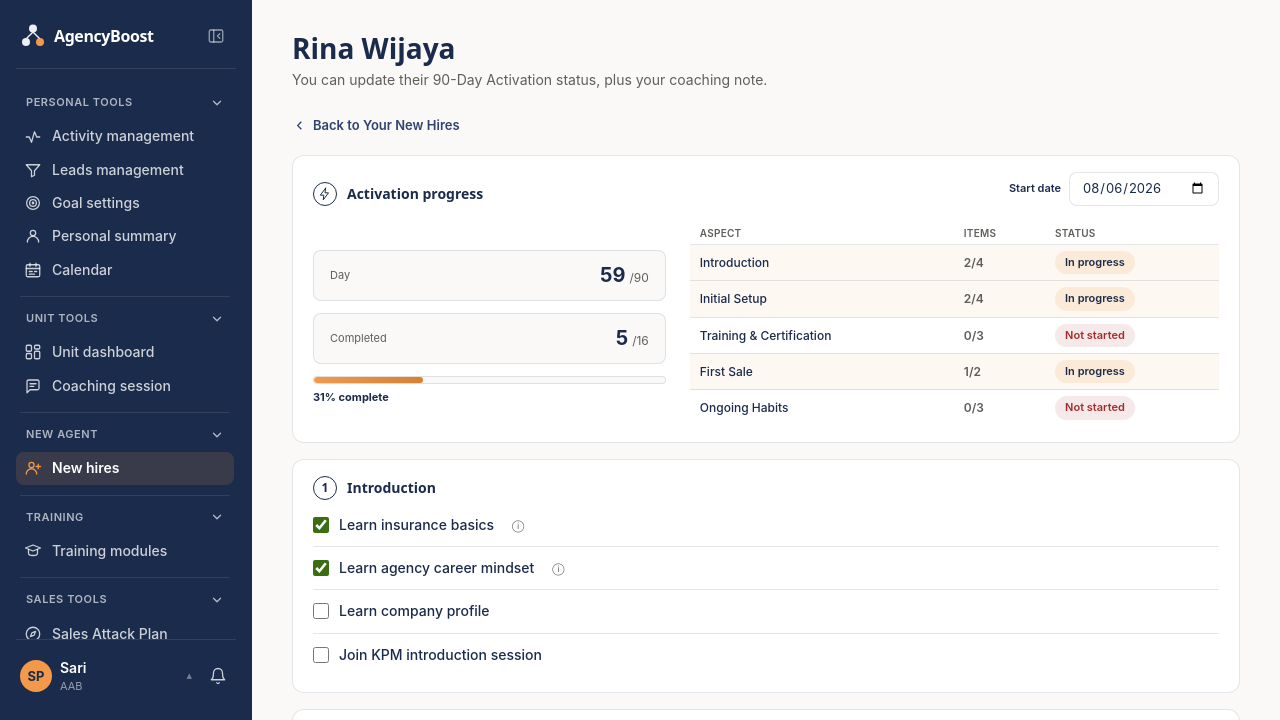
Test case: /new-hires/[membershipId], one hire as a leader reads it (P13-T5, P13-T6) › P13-T5 AC-5 a date after today, or more than a year back, is refused before it is sent
Type "2026-10-04" into the date field labelled "Start date".
click(1144, 189); type("2026-10-04")  # box x1=1069 y1=172 x2=1219 y2=206
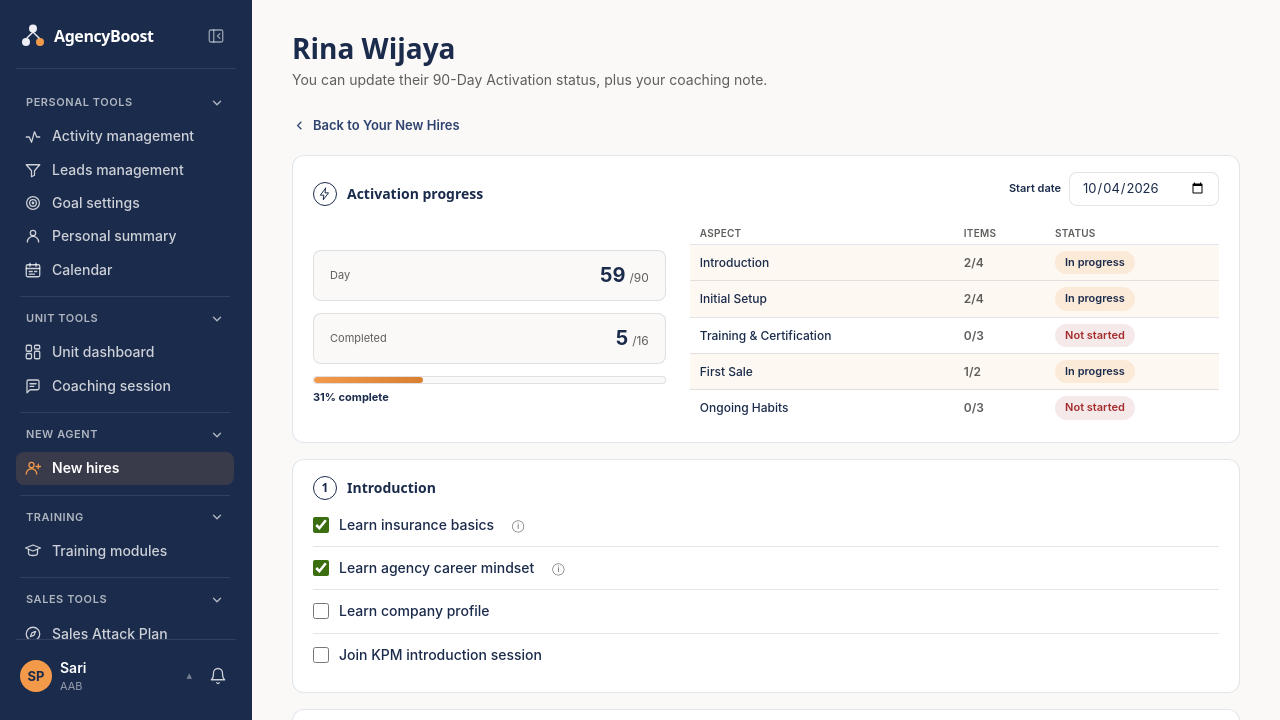
Leave the date field labelled "Start date", box x1=1069 y1=172 x2=1219 y2=206
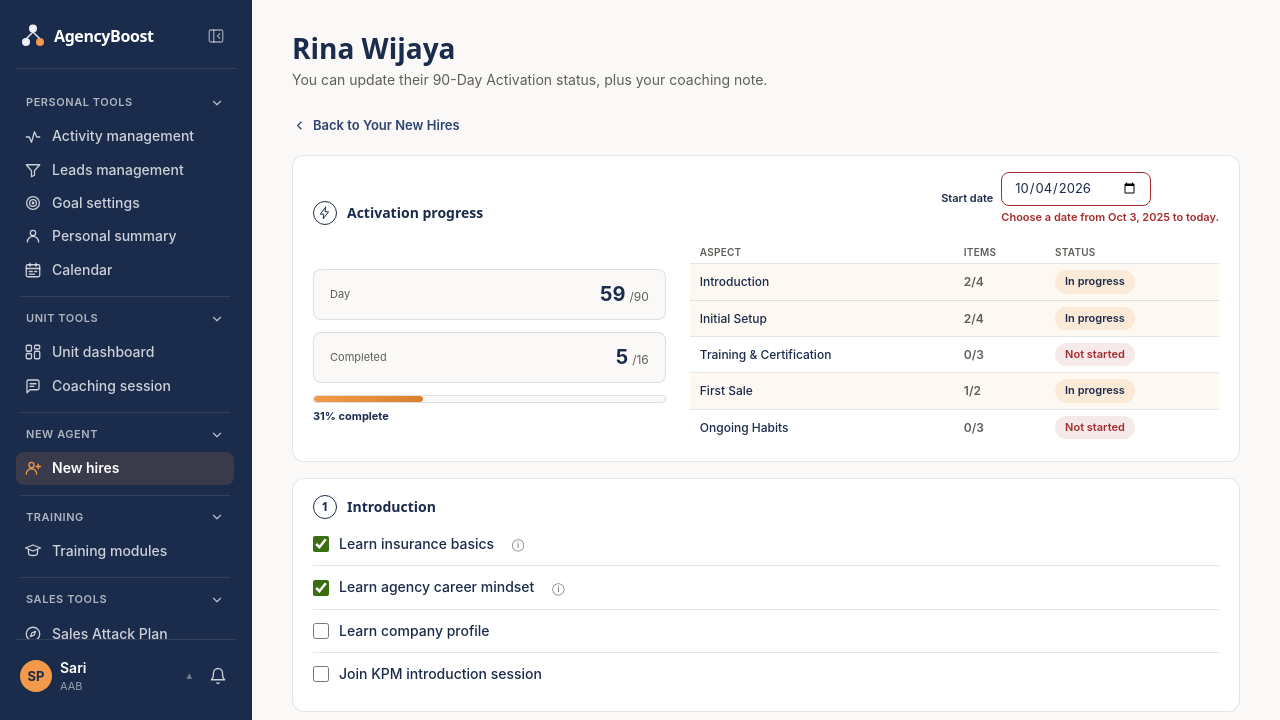
Expected: the text "Choose a date from Oct 3, 2025 to today." is shown, x1=1001 y1=210 x2=1219 y2=225
Type "2025-10-02" into the date field labelled "Start date".
click(1076, 189); type("2025-10-02")  # box x1=1001 y1=172 x2=1151 y2=206
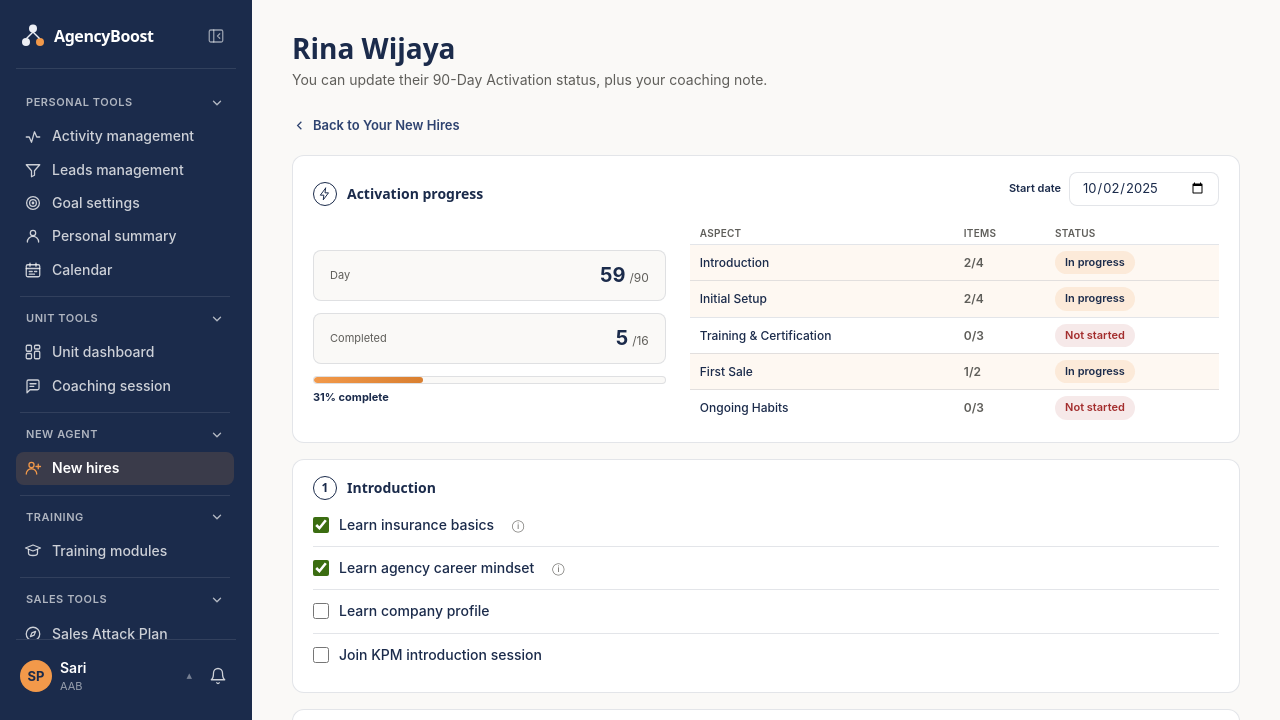
Leave the date field labelled "Start date", box x1=1069 y1=172 x2=1219 y2=206
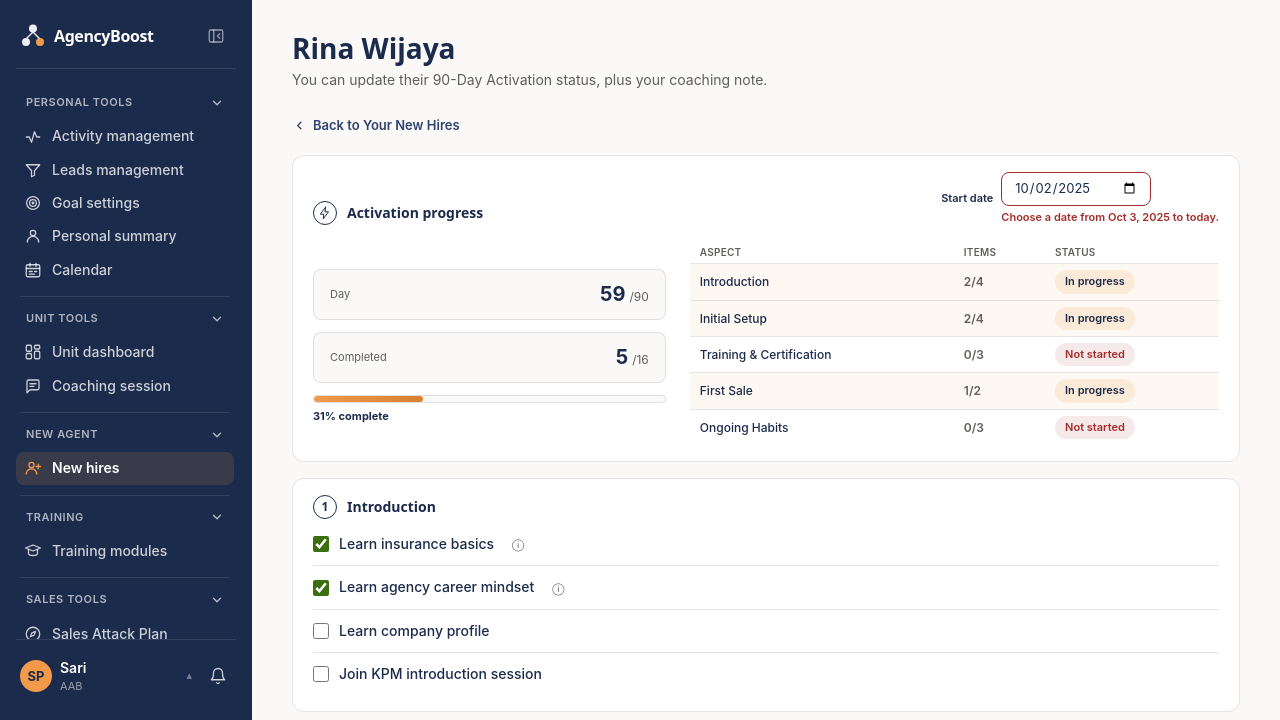
Expected: the text "Choose a date from Oct 3, 2025 to today." is shown, x1=1001 y1=210 x2=1219 y2=225
